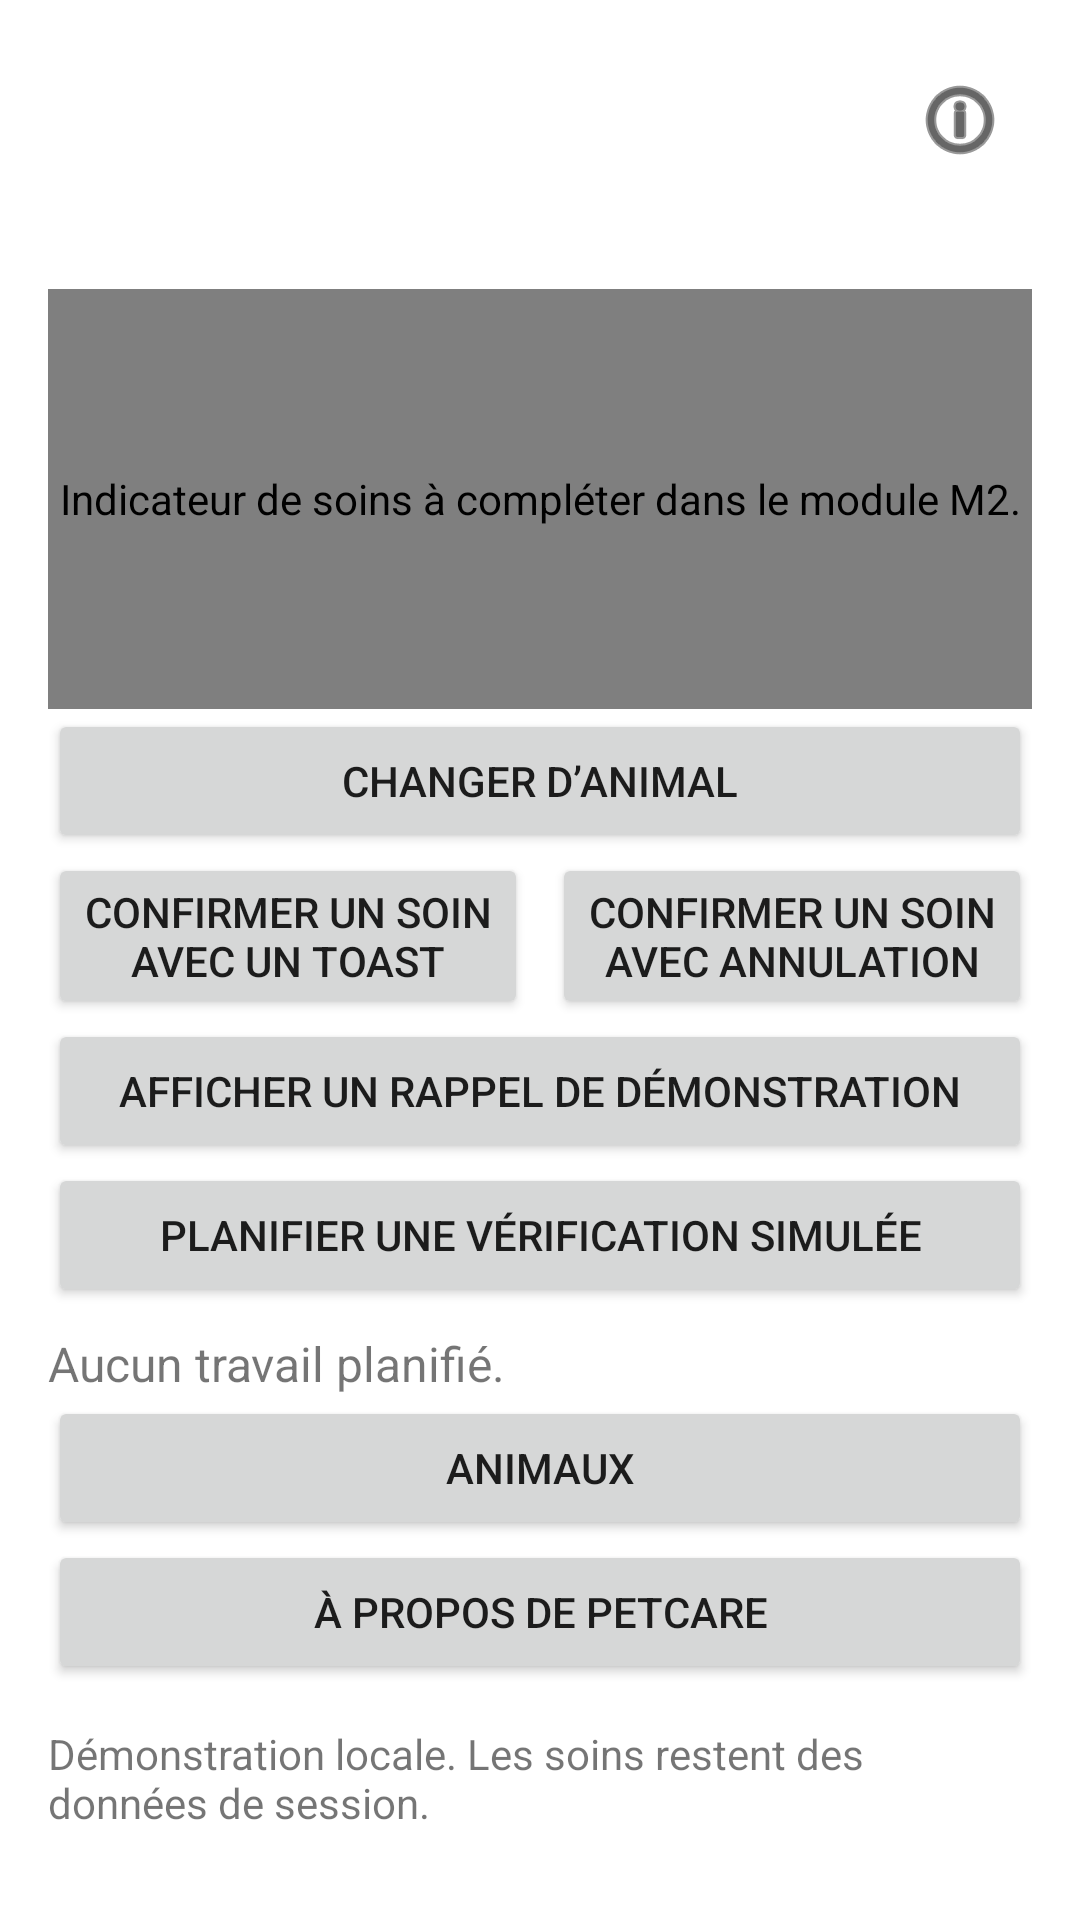

Where to tap for icons on this 1080x1920 app screen, as [x,y]:
Afficher les informations de cet animal: [960,120]
